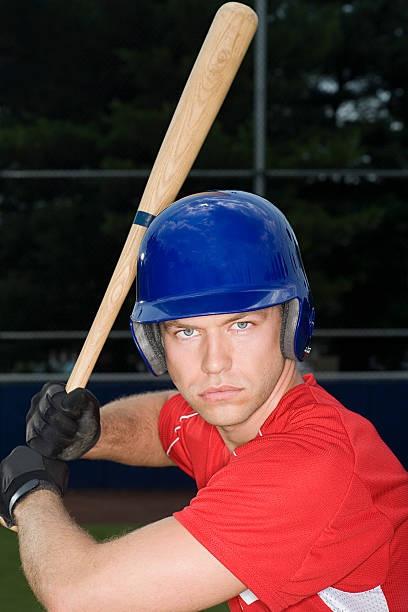bita: (71, 4, 258, 399)
